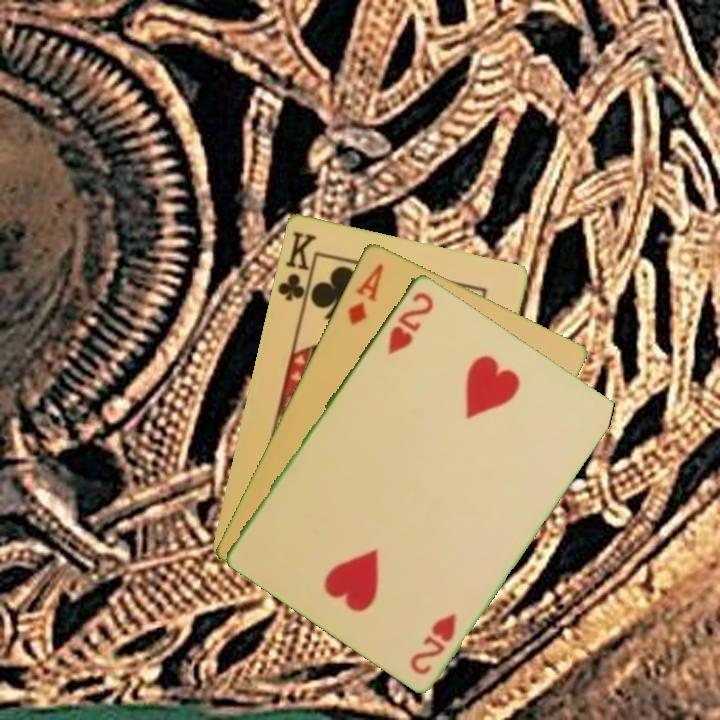2h: (406, 608, 460, 678), (384, 288, 437, 357)
Ad: (344, 259, 386, 328)
Kc: (273, 227, 320, 310)
